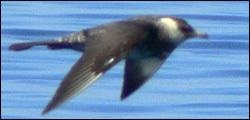bird: (7, 13, 209, 117)
